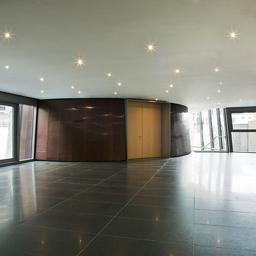Puerta: (126, 102, 167, 157)
Ventana: (194, 114, 255, 152), (3, 103, 32, 161)
